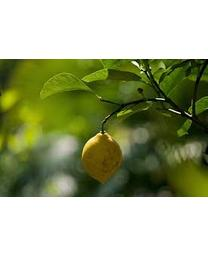lemon: (81, 131, 123, 185)
